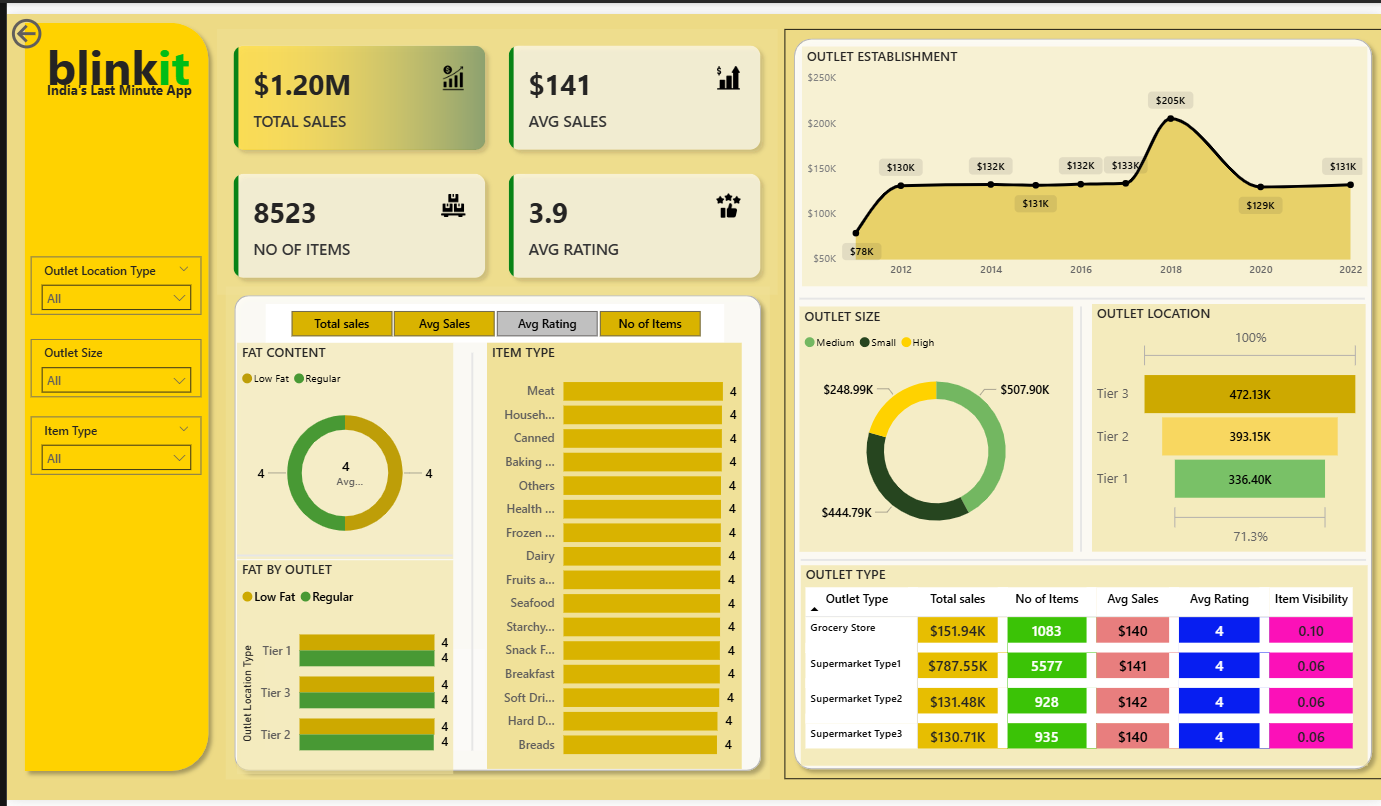

The page's visual inventory and layout, read from the dashboard file:
{"tool":"powerbi","page":{"name":"Page 1","canvas":[1400,800],"ordinal":0},"visuals":[{"type":"shape","box":[8.8,0,205,779.1],"z":0},{"type":"textbox","box":[262.5,646.2,224.4,103.2],"z":1000},{"type":"textbox","box":[35.1,14.6,178.7,79.1],"z":2000},{"type":"textbox","box":[35,63.8,172.5,30],"z":3000},{"type":"cardVisual","fields":{"Data":["BlinkIT Grocery Data.Total sales","BlinkIT Grocery Data.Avg Sales","BlinkIT Grocery Data.No of Items","BlinkIT Grocery Data.Avg Rating"]},"box":[213.3,15,570,270],"z":4000},{"type":"shape","box":[222.2,276.8,553.5,501.7],"z":5000},{"type":"donutChart","title":"FAT CONTENT","fields":{"Y":["BlinkIT Grocery Data.Avg Rating"],"Category":["BlinkIT Grocery Data.Item Fat Content"]},"box":[234,334.5,220,220],"z":6000},{"type":"slicer","fields":{"Values":["Metrics.Metrics"]},"box":[263.1,294.5,466.3,39.5],"z":7000},{"type":"cardVisual","fields":{"Data":["BlinkIT Grocery Data.Avg Rating"]},"box":[302.7,433.5,84.5,54.5],"z":8000},{"type":"clusteredBarChart","title":"FAT BY OUTLET","fields":{"Y":["BlinkIT Grocery Data.Avg Rating"],"Category":["BlinkIT Grocery Data.Outlet Location Type"],"Series":["BlinkIT Grocery Data.Item Fat Content"]},"box":[234,555.8,220,217.5],"z":9000},{"type":"shape","box":[234.5,546.7,219.5,8.2],"z":10000},{"type":"shape","box":[449.9,344.9,46.4,404.9],"z":11000},{"type":"barChart","title":"ITEM TYPE","fields":{"Y":["BlinkIT Grocery Data.Avg Rating"],"Category":["BlinkIT Grocery Data.Item Type"]},"box":[488.1,334,259,433.5],"z":12000},{"type":"shape","box":[790.7,15,608,763.5],"z":13000},{"type":"lineChart","title":"OUTLET ESTABLISHMENT","fields":{"Y":["BlinkIT Grocery Data.Total sales"],"Category":["BlinkIT Grocery Data.Outlet Establishment Year"]},"box":[808.5,32.7,575.3,244],"z":14000},{"type":"shape","box":[805.7,284.9,575.3,9.5],"z":15000},{"type":"donutChart","title":"OUTLET SIZE","fields":{"Y":["BlinkIT Grocery Data.Total sales"],"Category":["BlinkIT Grocery Data.Outlet Size"]},"box":[806.3,297.6,278.5,249.3],"z":16000},{"type":"shape","box":[1070.2,297.2,46.4,249.5],"z":17000},{"type":"funnel","title":"OUTLET LOCATION","fields":{"Y":["Sum(BlinkIT Grocery Data.Sales)"],"Category":["BlinkIT Grocery Data.Outlet Location Type"]},"box":[1104.3,294.5,278.1,252.2],"z":18000},{"type":"shape","box":[807.1,550.8,575.3,9.5],"z":19000},{"type":"pivotTable","title":"OUTLET TYPE","fields":{"Rows":["BlinkIT Grocery Data.Outlet Type"],"Values":["BlinkIT Grocery Data.Total sales","BlinkIT Grocery Data.No of Items","BlinkIT Grocery Data.Avg Sales","BlinkIT Grocery Data.Avg Rating","Avg(BlinkIT Grocery Data.Item Visibility)"]},"box":[807.1,561.4,577.1,204.3],"z":20000},{"type":"slicer","fields":{"Values":["BlinkIT Grocery Data.Outlet Location Type"]},"box":[24.6,246.4,173.9,59.4],"z":21000},{"type":"actionButton","box":[0,0,100,40],"z":22000},{"type":"slicer","fields":{"Values":["BlinkIT Grocery Data.Outlet Size"]},"box":[24.6,330.4,173.9,59.4],"z":23000},{"type":"slicer","fields":{"Values":["BlinkIT Grocery Data.Item Type"]},"box":[24.6,410.1,173.9,59.4],"z":24000}]}

Visuals, with their boxes on the page's 1400x800 design canvas (x1, y1, x2, y2). These are canvas units, not pixel positions in the 1381x806 screenshot, which may show the page scaled, cropped or inside an application window:
shape: pyautogui.locateOnScreen(9, 0, 214, 779)
textbox: pyautogui.locateOnScreen(262, 646, 487, 749)
textbox: pyautogui.locateOnScreen(35, 15, 214, 94)
textbox: pyautogui.locateOnScreen(35, 64, 208, 94)
cardVisual - BlinkIT Grocery Data.Total sales x BlinkIT Grocery Data.Avg Sales: pyautogui.locateOnScreen(213, 15, 783, 285)
shape: pyautogui.locateOnScreen(222, 277, 776, 778)
"FAT CONTENT" donutChart: pyautogui.locateOnScreen(234, 334, 454, 554)
slicer - Metrics.Metrics: pyautogui.locateOnScreen(263, 294, 729, 334)
cardVisual - BlinkIT Grocery Data.Avg Rating: pyautogui.locateOnScreen(303, 434, 387, 488)
"FAT BY OUTLET" clusteredBarChart: pyautogui.locateOnScreen(234, 556, 454, 773)
shape: pyautogui.locateOnScreen(234, 547, 454, 555)
shape: pyautogui.locateOnScreen(450, 345, 496, 750)
"ITEM TYPE" barChart: pyautogui.locateOnScreen(488, 334, 747, 768)
shape: pyautogui.locateOnScreen(791, 15, 1399, 778)
"OUTLET ESTABLISHMENT" lineChart: pyautogui.locateOnScreen(808, 33, 1384, 277)
shape: pyautogui.locateOnScreen(806, 285, 1381, 294)
"OUTLET SIZE" donutChart: pyautogui.locateOnScreen(806, 298, 1085, 547)
shape: pyautogui.locateOnScreen(1070, 297, 1117, 547)
"OUTLET LOCATION" funnel: pyautogui.locateOnScreen(1104, 294, 1382, 547)
shape: pyautogui.locateOnScreen(807, 551, 1382, 560)
"OUTLET TYPE" pivotTable: pyautogui.locateOnScreen(807, 561, 1384, 766)
slicer - BlinkIT Grocery Data.Outlet Location Type: pyautogui.locateOnScreen(25, 246, 198, 306)
actionButton: pyautogui.locateOnScreen(0, 0, 100, 40)
slicer - BlinkIT Grocery Data.Outlet Size: pyautogui.locateOnScreen(25, 330, 198, 390)
slicer - BlinkIT Grocery Data.Item Type: pyautogui.locateOnScreen(25, 410, 198, 470)
